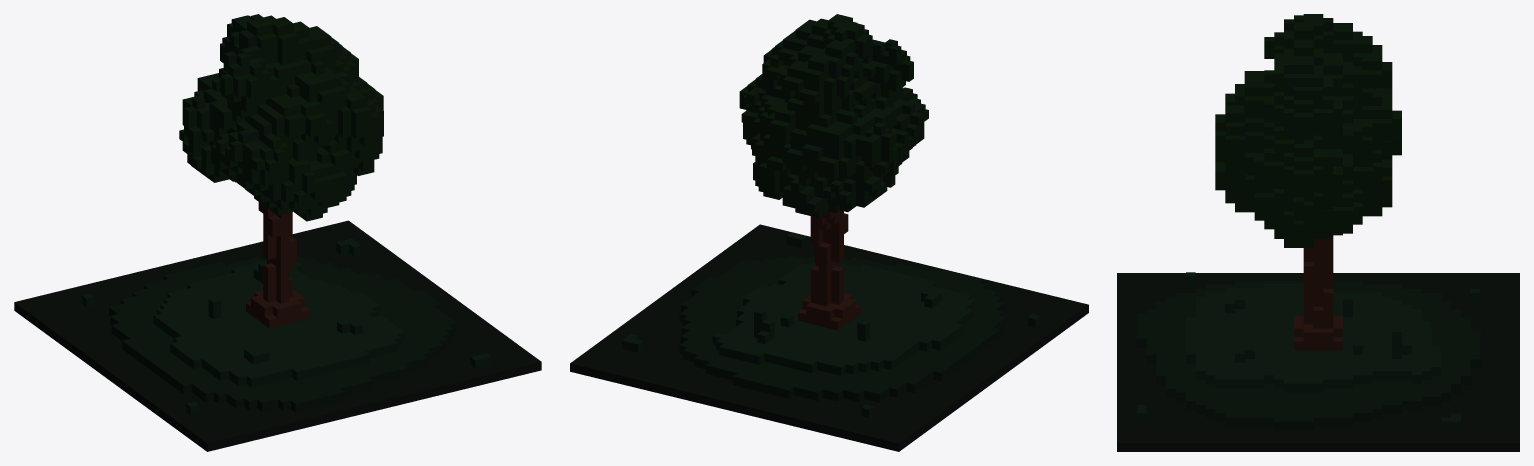
File: TestTree.FBX
The picture shows the model from 3 angles, left to right: view 1: azimuth 30°, elevation 25°; view 2: azimuth 150°, elevation 25°; view 3: azimuth 270°, elevation 25°; orthographic projection. The views are drawn at different scales.
Visible parts, largest first — view 1: default; view 2: default; view 3: default.
Boxes of the visible parts, x1,y1,x2,y2 form: default: (14, 14, 541, 451); default: (570, 14, 1088, 451); default: (1117, 14, 1519, 451).
Size of the model in its own units: 41 by 38 by 41.
